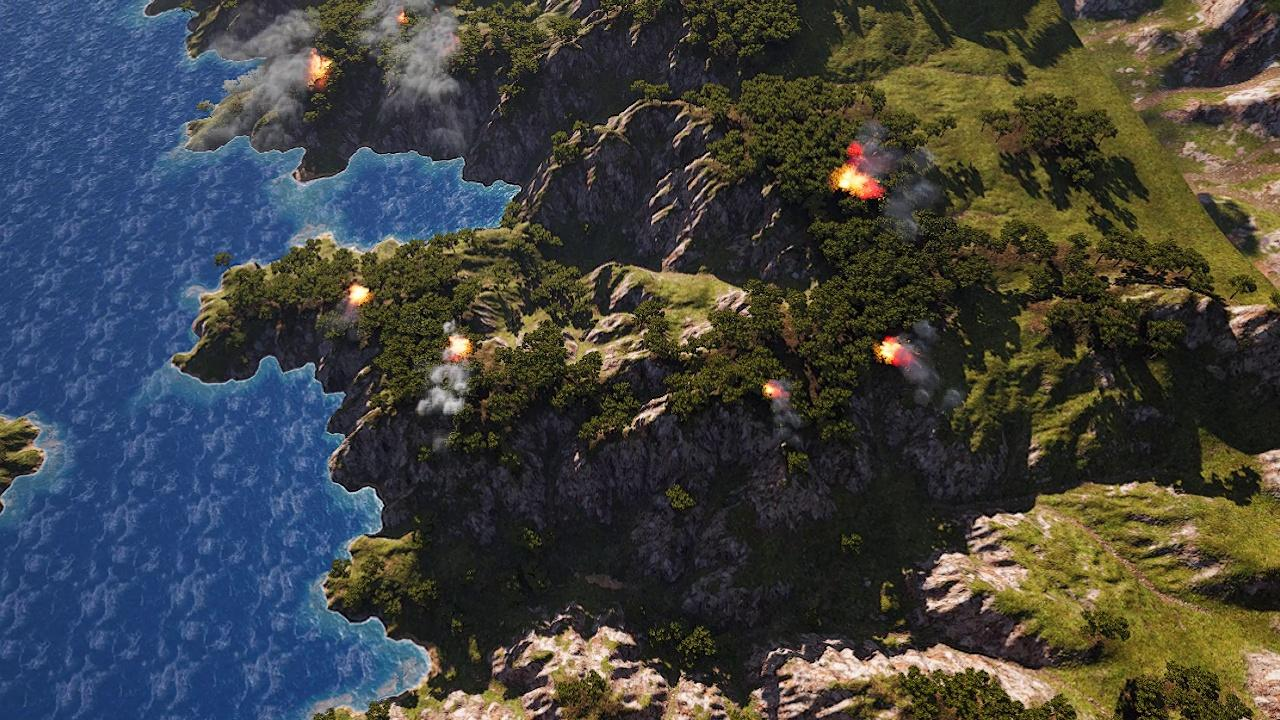fire: (834, 163, 880, 199), (877, 338, 912, 366), (305, 53, 332, 89), (448, 336, 475, 360), (347, 285, 370, 304), (761, 380, 782, 398), (395, 7, 410, 25)
smoke: (208, 0, 481, 189), (852, 118, 943, 247), (891, 320, 966, 426), (406, 363, 474, 460), (764, 374, 800, 447)
